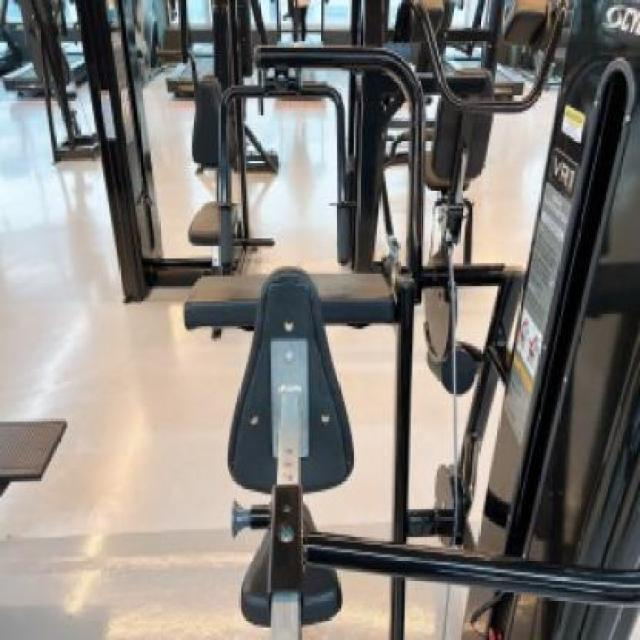arm curl machine: (184, 47, 640, 640)
